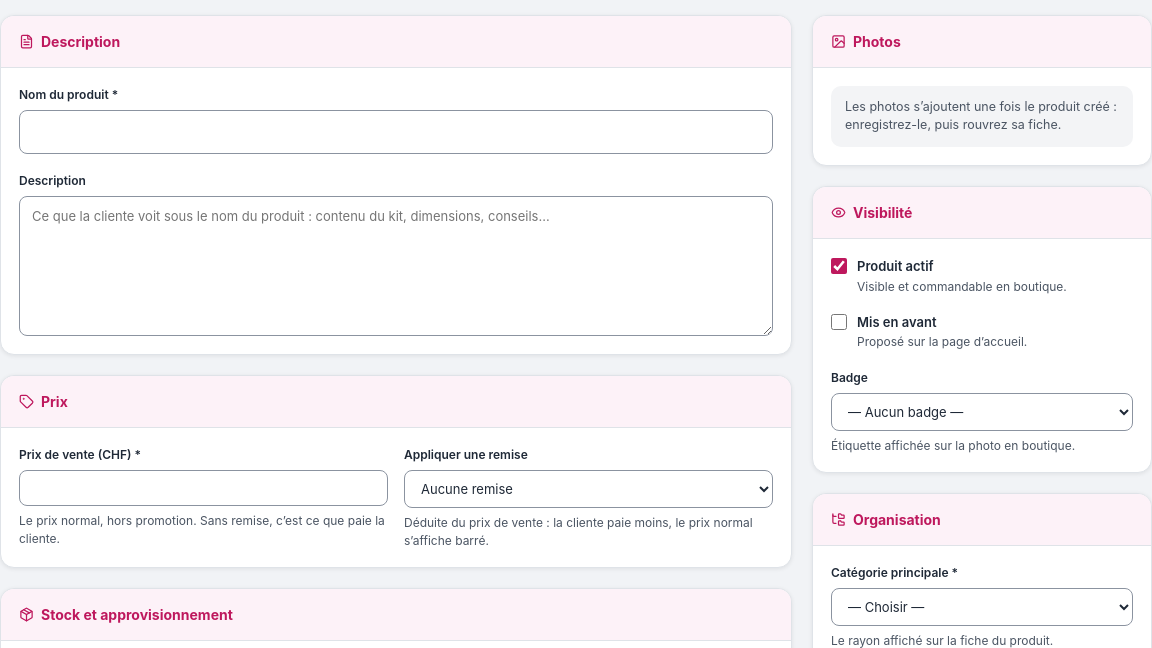
Scenario: ProductForm — vente à la coupe (ADM-12) › annonce le prix réellement payé pour la longueur minimale
This screenshot has width=1152, height=648.
Type "16.50" into the number field labelled "Prix de vente (CHF) *". click: (204, 488)
box: [19,470,388,506]
(page scrolled)
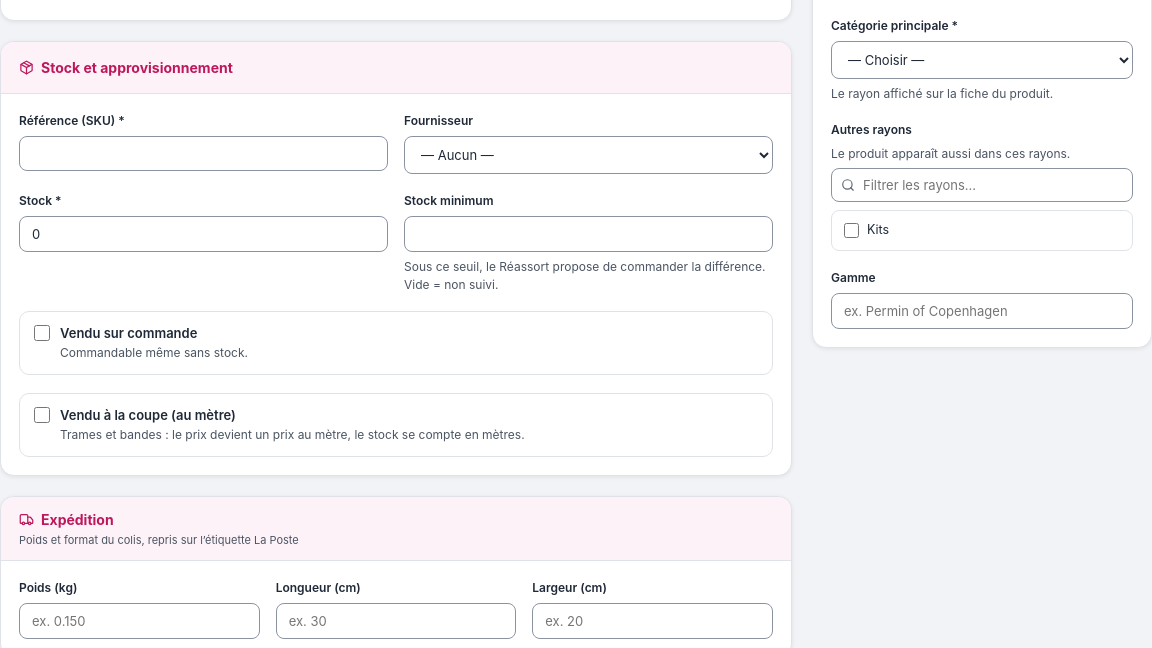
Click the checkbox labelled "Vendu à la coupe". click: (42, 415)
box: [34,407,50,423]
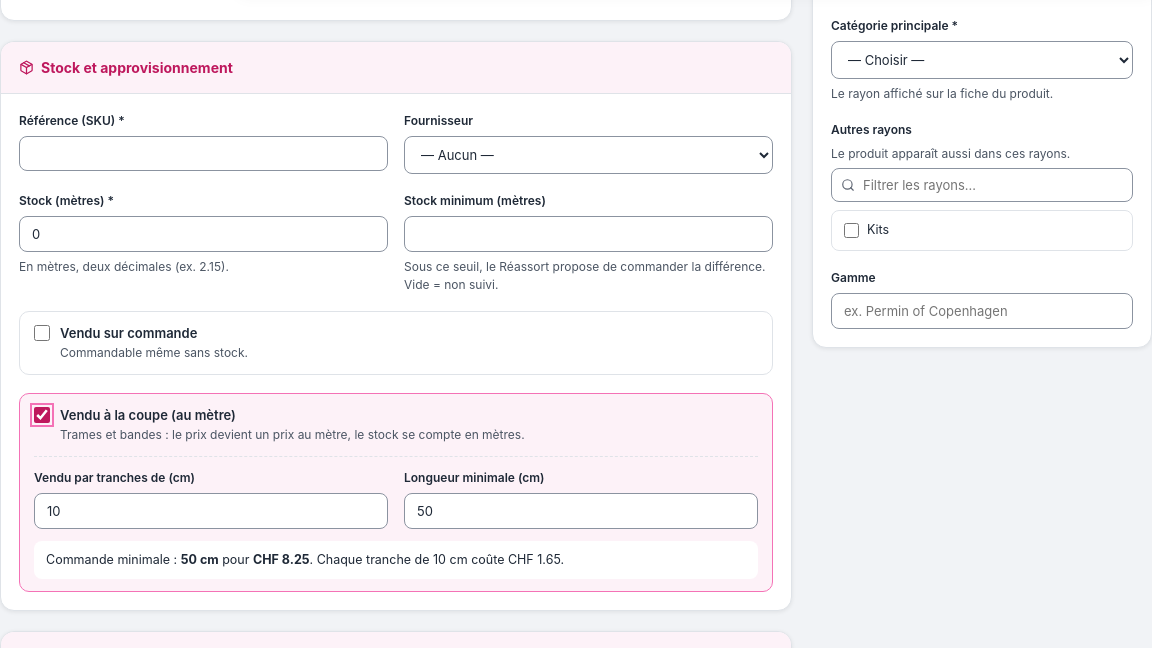
Check: the text "CHF 8.25" is shown, box [253,552,310,567]
Check: the text "CHF 1.65" is shown, box [34,541,758,580]
